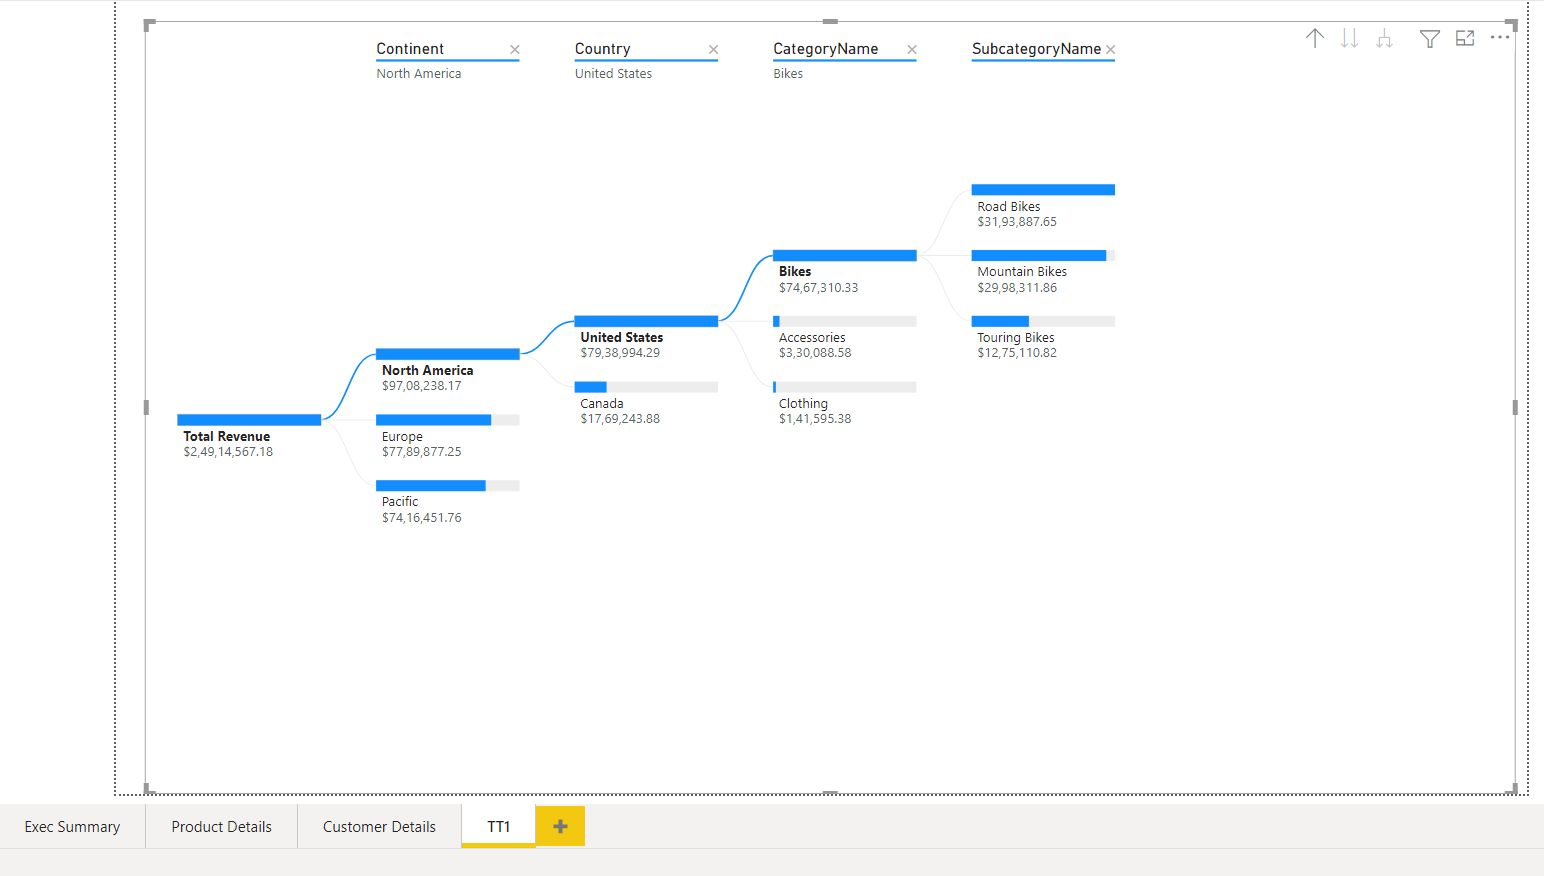

The page's visual inventory and layout, read from the dashboard file:
{"tool":"powerbi","page":{"name":"TT1","canvas":[1280,720],"ordinal":3},"visuals":[{"type":"decompositionTreeVisual","fields":{"Analyze":["Sales Data.Total Revenue"],"ExplainBy":["Territories_Lookup.Continent","Territories_Lookup.Country","Product_Categories_Lookup.CategoryName","Product_Subcategories_Lookup.SubcategoryName"]},"box":[25.6,18.6,1243.9,701.7],"z":0}]}

Visuals, with their boxes on the page's 1280x720 design canvas (x1, y1, x2, y2). These are canvas units, not pixel positions in the 1544x876 screenshot, which may show the page scaled, cropped or inside an application window:
decompositionTreeVisual - Sales Data.Total Revenue x Territories_Lookup.Continent: <box>26,19,1270,720</box>
